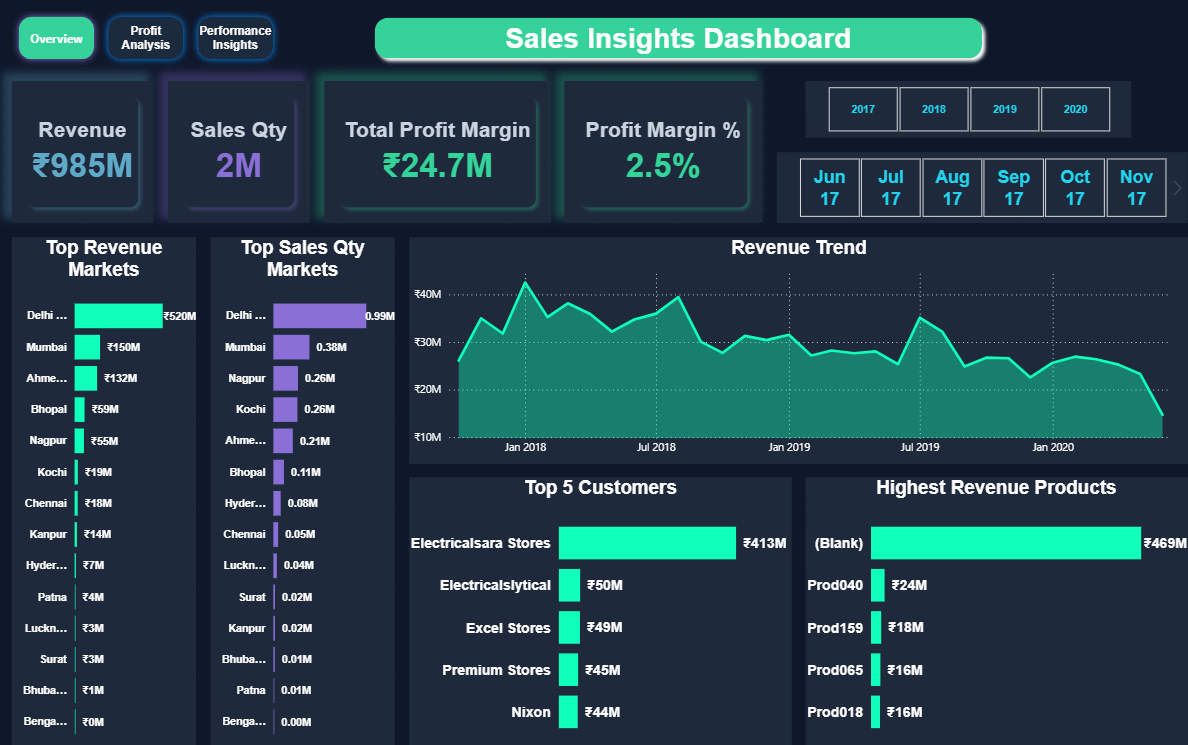

This screenshot's page, from the dashboard's own definition file:
{"tool":"powerbi","page":{"name":"Overview","canvas":[1350,850],"ordinal":0},"visuals":[{"type":"cardVisual","fields":{"Data":["BaseMeasures.Sales Qty"]},"box":[192,96,160,160],"z":0},{"type":"barChart","title":"Top Revenue Markets","fields":{"Y":["BaseMeasures.Revenue"],"Category":["sales markets.markets_name"]},"box":[16,272,208,576],"z":1000},{"type":"barChart","title":"Top Sales Qty Markets","fields":{"Y":["BaseMeasures.Sales Qty"],"Category":["sales markets.markets_name"]},"box":[240,272,208,576],"z":2000},{"type":"slicer","fields":{"Values":["sales date.year"]},"box":[912,96,368,64],"z":3000},{"type":"slicer","fields":{"Values":["sales date.cy_date"]},"box":[880,176,464,80],"z":4000},{"type":"barChart","title":"Top 5 Customers","fields":{"Y":["BaseMeasures.Revenue"],"Category":["sales customers.custmer_name"]},"box":[464,544,432,304],"z":5000},{"type":"barChart","title":"Highest Revenue Products","fields":{"Y":["BaseMeasures.Revenue"],"Category":["sales products.product_code"]},"box":[912,544,432,304],"z":6000},{"type":"lineChart","title":"Revenue Trend","fields":{"Y":["BaseMeasures.Revenue"],"Category":["sales date.cy_date"]},"box":[464,272,880,256],"z":7000},{"type":"cardVisual","fields":{"Data":["BaseMeasures.Total Profit Margin"]},"box":[368,96,256,160],"z":8000},{"type":"cardVisual","fields":{"Data":["BaseMeasures.Profit Margin %"]},"box":[640,96,224,160],"z":9000},{"type":"shape","box":[416,16,704,64],"z":10000},{"type":"cardVisual","fields":{"Data":["BaseMeasures.Revenue"]},"box":[16,96,160,160],"z":11000},{"type":"pageNavigator","box":[16,16,304,64],"z":11001}]}

Visuals, with their boxes in screenshot pixels (x1, y1, x2, y2), scaled from the page's 1350x850 canvas onto the 1188x745 screenshot:
cardVisual - BaseMeasures.Sales Qty: {"x1": 169, "y1": 84, "x2": 310, "y2": 224}
"Top Revenue Markets" barChart: {"x1": 14, "y1": 238, "x2": 197, "y2": 743}
"Top Sales Qty Markets" barChart: {"x1": 211, "y1": 238, "x2": 394, "y2": 743}
slicer - sales date.year: {"x1": 803, "y1": 84, "x2": 1126, "y2": 140}
slicer - sales date.cy_date: {"x1": 774, "y1": 154, "x2": 1183, "y2": 224}
"Top 5 Customers" barChart: {"x1": 408, "y1": 477, "x2": 788, "y2": 743}
"Highest Revenue Products" barChart: {"x1": 803, "y1": 477, "x2": 1183, "y2": 743}
"Revenue Trend" lineChart: {"x1": 408, "y1": 238, "x2": 1183, "y2": 463}
cardVisual - BaseMeasures.Total Profit Margin: {"x1": 324, "y1": 84, "x2": 549, "y2": 224}
cardVisual - BaseMeasures.Profit Margin %: {"x1": 563, "y1": 84, "x2": 760, "y2": 224}
shape: {"x1": 366, "y1": 14, "x2": 986, "y2": 70}
cardVisual - BaseMeasures.Revenue: {"x1": 14, "y1": 84, "x2": 155, "y2": 224}
pageNavigator: {"x1": 14, "y1": 14, "x2": 282, "y2": 70}
